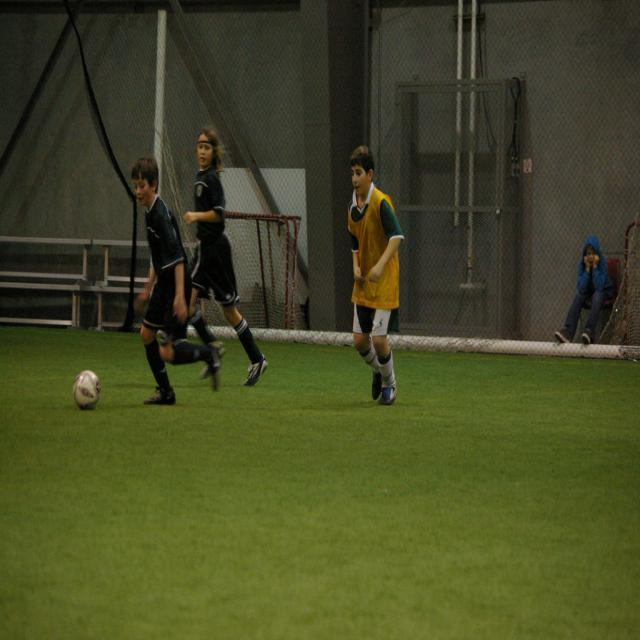ball: (75, 370, 104, 407)
